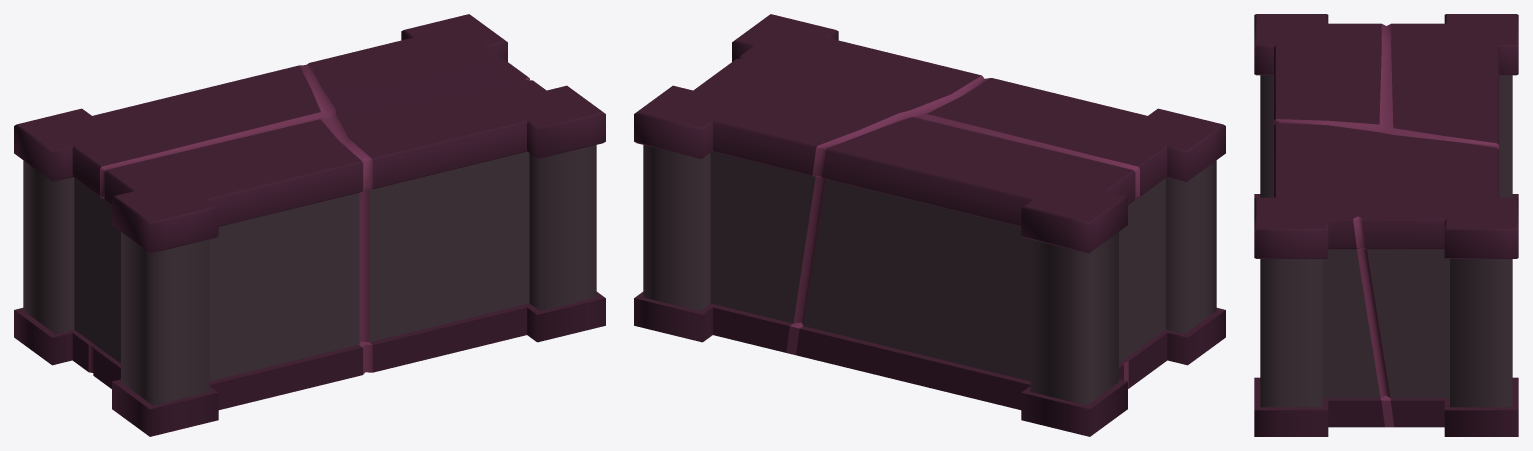
Rendered from altar.fbx.
3 views of the same model, side by side, from view 1: azimuth 30°, elevation 25°; view 2: azimuth 150°, elevation 25°; view 3: azimuth 270°, elevation 25° (orthographic). The views are drawn at different scales.
Visible parts, largest first — view 1: altar; view 2: altar; view 3: altar.
Part boxes in pixels (x1,y1,x2,y2): altar: [14, 14, 605, 436]; altar: [634, 14, 1225, 436]; altar: [1254, 14, 1518, 436].
Bounding box in the file's own units: 128 × 57.45 × 66.25.
